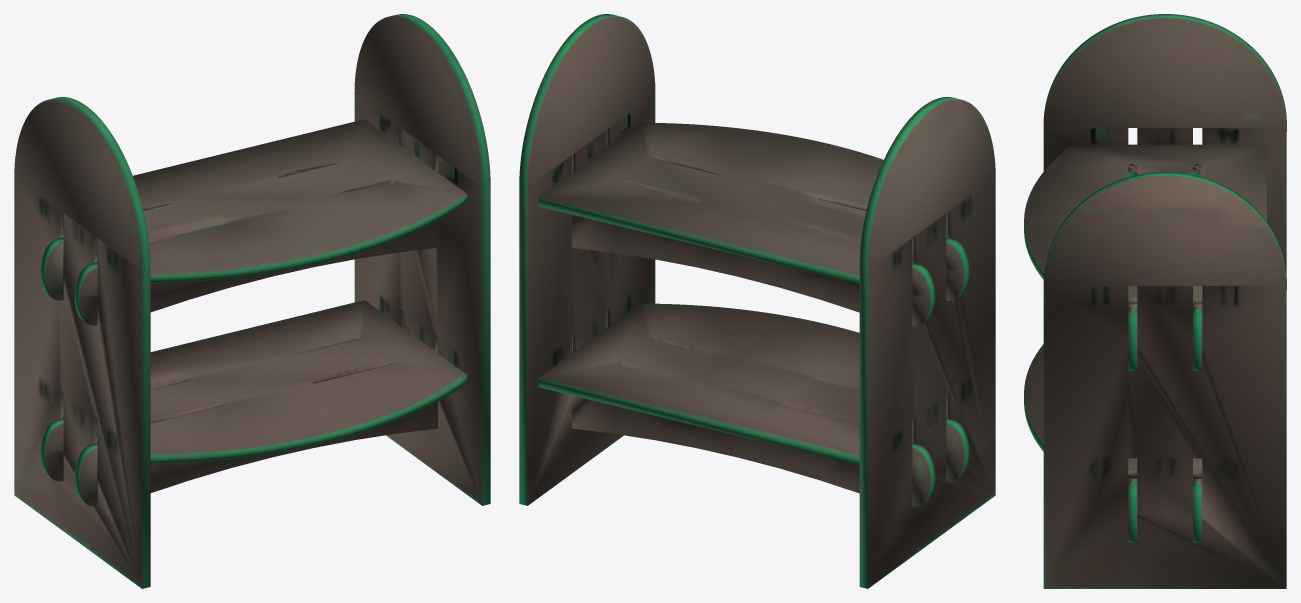
File: librero.glb
The picture shows the model from 3 angles, left to right: view 1: azimuth 30°, elevation 25°; view 2: azimuth 150°, elevation 25°; view 3: azimuth 270°, elevation 25°; orthographic projection. The views are drawn at different scales.
Bounding box in the file's own units: 1.86 × 2 × 1.15.
1 material, 1 textured.
